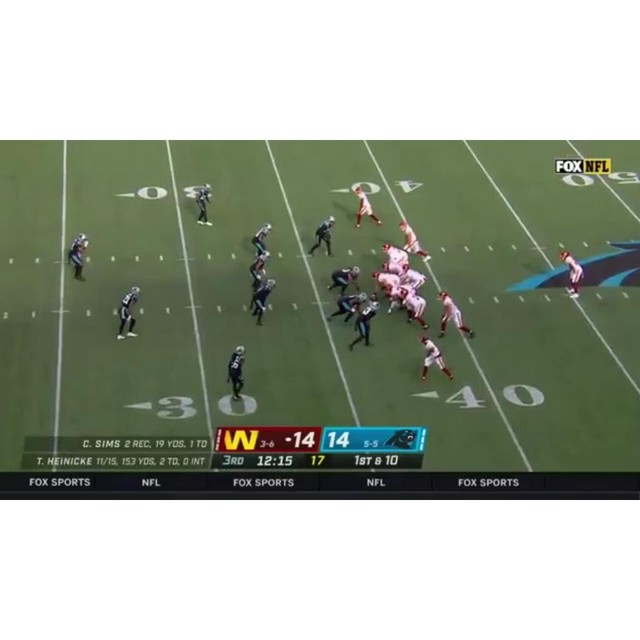american-football-player: (437, 290, 474, 339), (419, 335, 454, 382), (349, 299, 380, 351), (396, 287, 430, 331), (116, 285, 142, 340), (326, 292, 368, 325), (398, 219, 431, 261), (250, 279, 277, 327), (353, 184, 382, 228), (560, 250, 585, 297), (309, 215, 335, 257), (227, 346, 247, 400), (68, 233, 90, 282), (327, 266, 361, 295), (370, 270, 400, 302), (398, 262, 428, 293), (249, 250, 270, 290), (252, 221, 272, 257), (382, 242, 409, 264), (382, 258, 407, 277)
